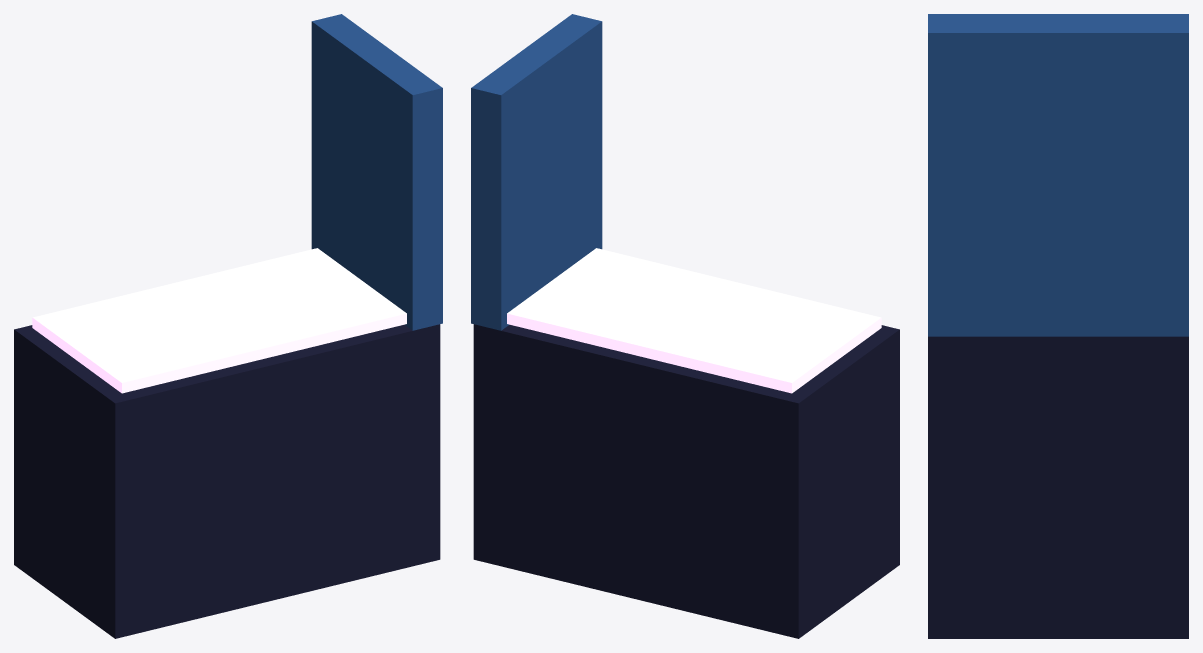
The model's file is arcade.glb.
3 views of the same model, side by side, from view 1: azimuth 30°, elevation 25°; view 2: azimuth 150°, elevation 25°; view 3: azimuth 270°, elevation 25° (orthographic). The views are drawn at different scales.
Visible parts, largest first — view 1: Box1, Box3, Box2; view 2: Box1, Box3, Box2; view 3: Box3, Box1.
Boxes of the visible parts, bbox=[...] form: Box1: bbox=[14, 324, 440, 638]; Box3: bbox=[311, 14, 442, 330]; Box2: bbox=[32, 248, 406, 393]; Box1: bbox=[473, 324, 899, 638]; Box3: bbox=[471, 14, 602, 330]; Box2: bbox=[507, 248, 881, 393]; Box3: bbox=[928, 14, 1188, 336]; Box1: bbox=[928, 336, 1188, 638].
Size of the model in its own units: 1.31 by 1.8 by 0.7.
